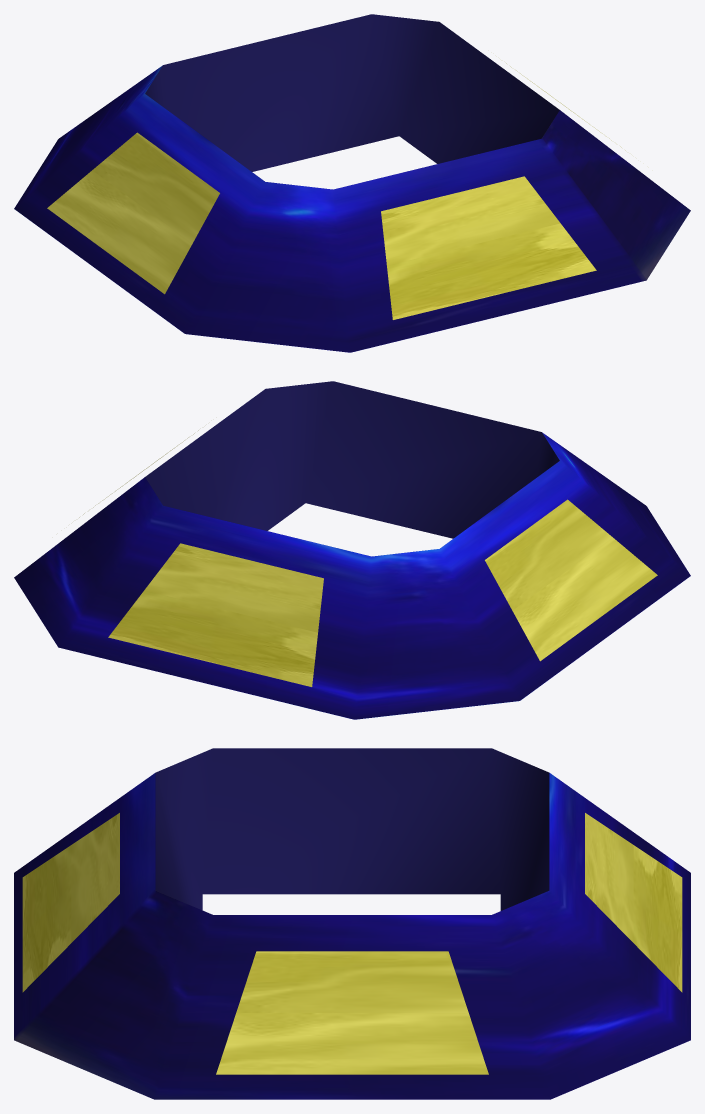
File: lifttop.gltf
3 renders of one model, top to bottom at view 1: azimuth 30°, elevation 25°; view 2: azimuth 150°, elevation 25°; view 3: azimuth 270°, elevation 25°, orthographic. The views are drawn at different scales.
Parts seen in each view (by area): view 1: Mesh_0, Mesh_1, Mesh_2; view 2: Mesh_0, Mesh_1, Mesh_2; view 3: Mesh_0, Mesh_1, Mesh_2.
Boxes of the visible parts, box(x1,y1,x2,y2) form: Mesh_0: box(14, 65, 690, 352); Mesh_1: box(145, 14, 559, 171); Mesh_2: box(47, 63, 625, 319); Mesh_0: box(14, 432, 690, 719); Mesh_1: box(145, 381, 559, 538); Mesh_2: box(79, 430, 657, 686); Mesh_0: box(14, 773, 690, 1099); Mesh_1: box(155, 748, 549, 910); Mesh_2: box(22, 813, 682, 1074).
Bounding box in the file's own units: 0.348 × 0.0711 × 0.348.
Materials: 2 (2 with a texture image).
